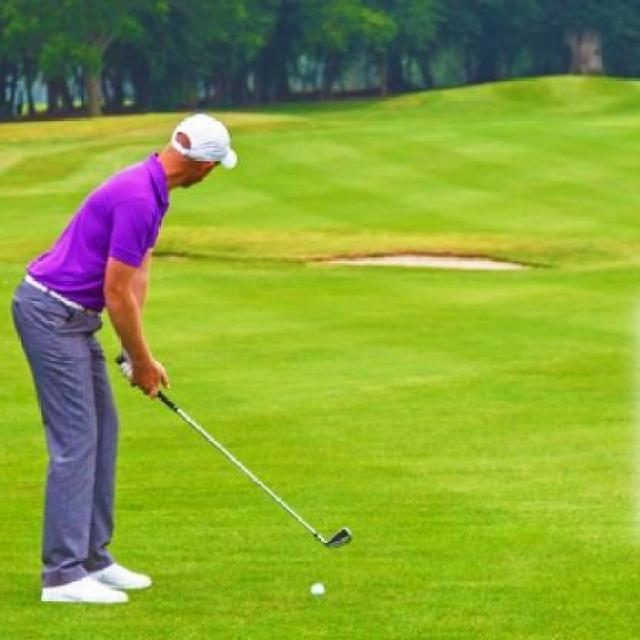club head: (315, 526, 353, 551)
